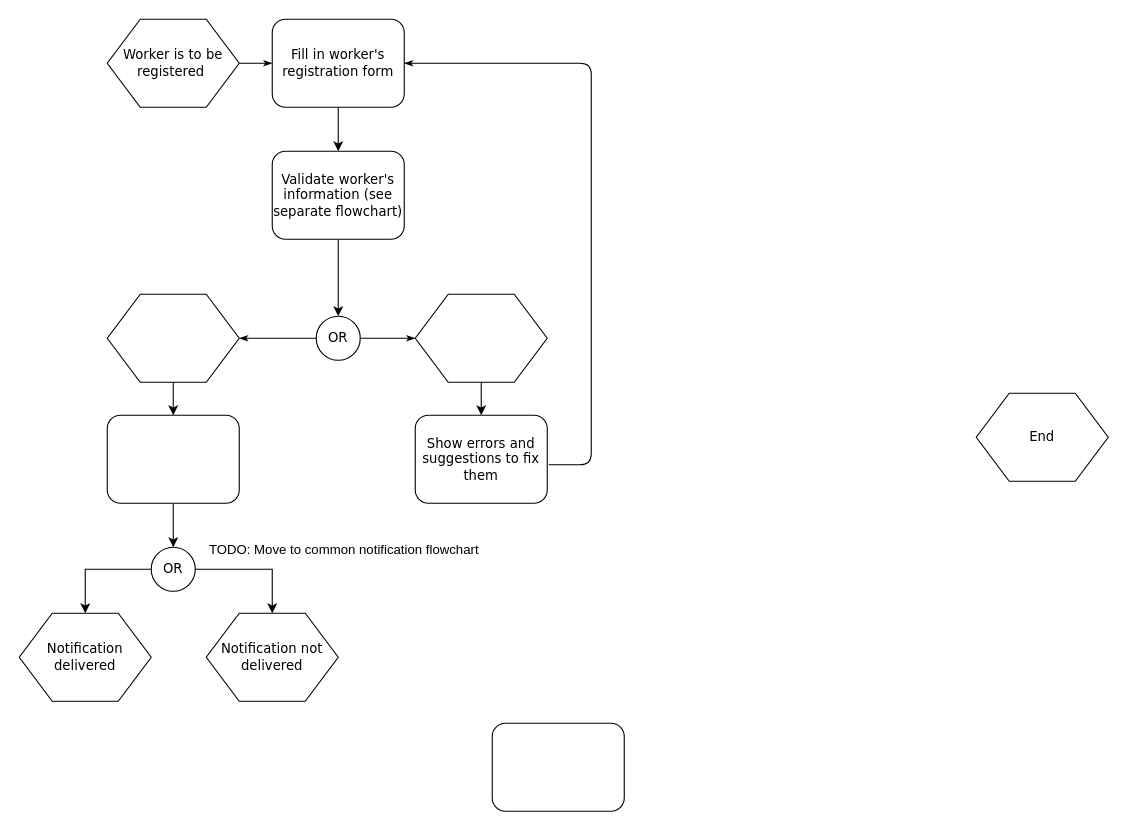
The diagram is 1128 pixels wide and 831 high, and some of its shapes have lost their labels. Here are the shapes that lost their labels. From the top down, the centre of each, then its label:
At pixel 172 337: "Validation succeeded".
At pixel 480 337: "Validation failed".
At pixel 172 458: "Send notification about new application to managers".
At pixel 557 766: "Show info message".
